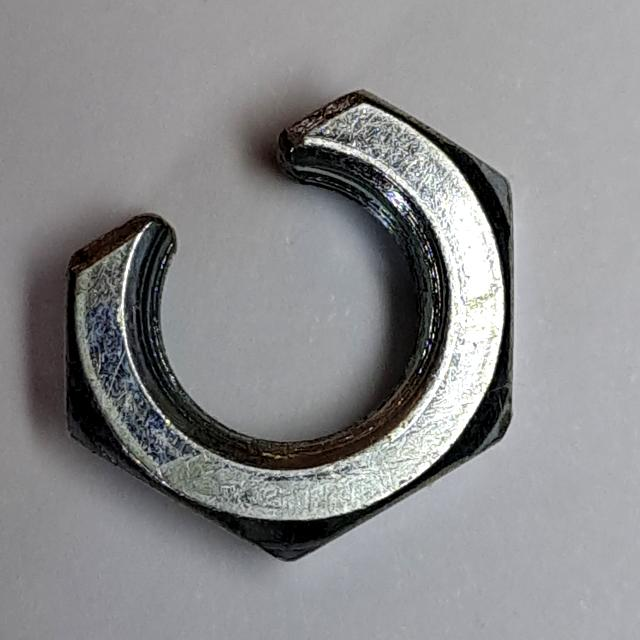Fracture: (55, 79, 530, 584)
